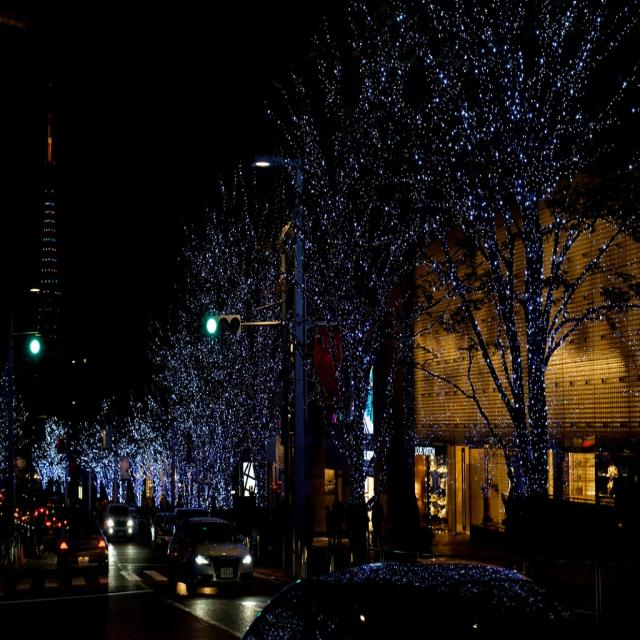car: (167, 521, 256, 593), (55, 514, 107, 578), (107, 495, 134, 538)
